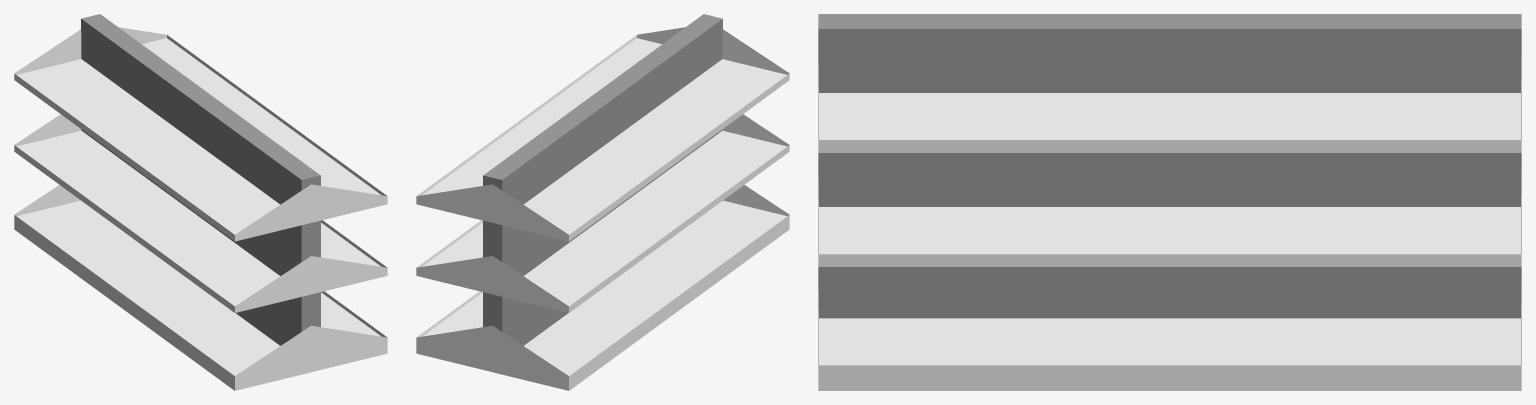
The model's file is FloorShelf.fbx.
3 views of the same model, side by side, from view 1: azimuth 30°, elevation 25°; view 2: azimuth 150°, elevation 25°; view 3: azimuth 270°, elevation 25° (orthographic). The views are drawn at different scales.
Visible parts, largest first — view 1: FloorShelf1; view 2: FloorShelf1; view 3: FloorShelf1.
Part boxes in pixels (x1,y1,x2,y2): FloorShelf1: [14, 14, 387, 390]; FloorShelf1: [416, 14, 789, 390]; FloorShelf1: [818, 14, 1521, 390].
Size of the model in its own units: 200 by 243 by 500.
